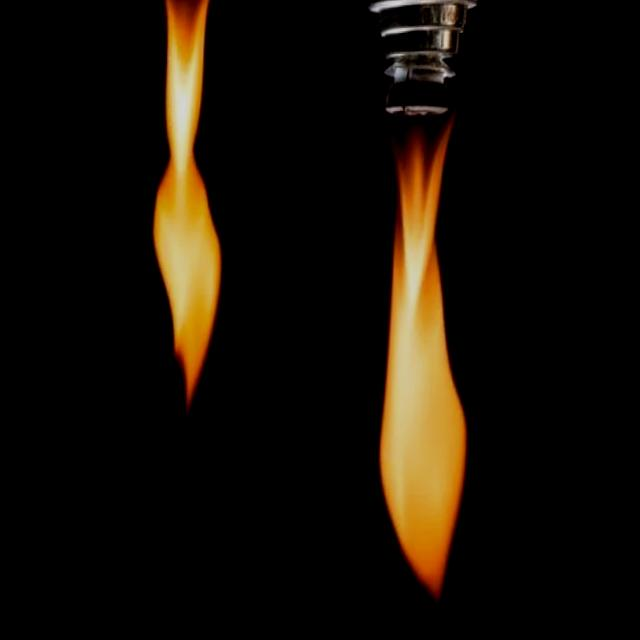helmet: (358, 53, 502, 615), (133, 0, 254, 431)
